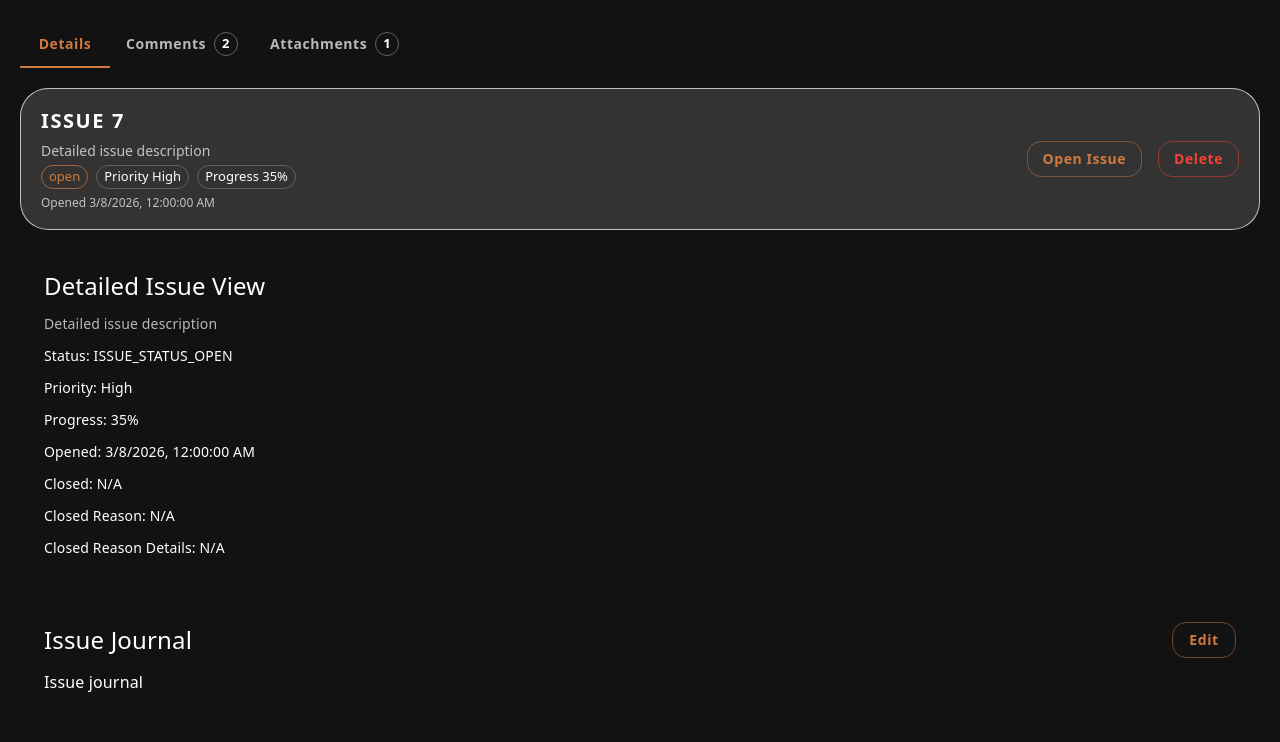
Test: ProjectManagerIssuePage › shows project and issue attachment embedding instructions in the issue journal editor
This screenshot has width=1280, height=742.
(page scrolled)
Check: the heading "Issue Journal" is shown, box [44,624,192,656]
Check: the text "Issue Journal" is shown, box [44,623,192,656]
Click the button "Edit".
click(1204, 640)  # box [1172,622,1236,658]
(page scrolled)
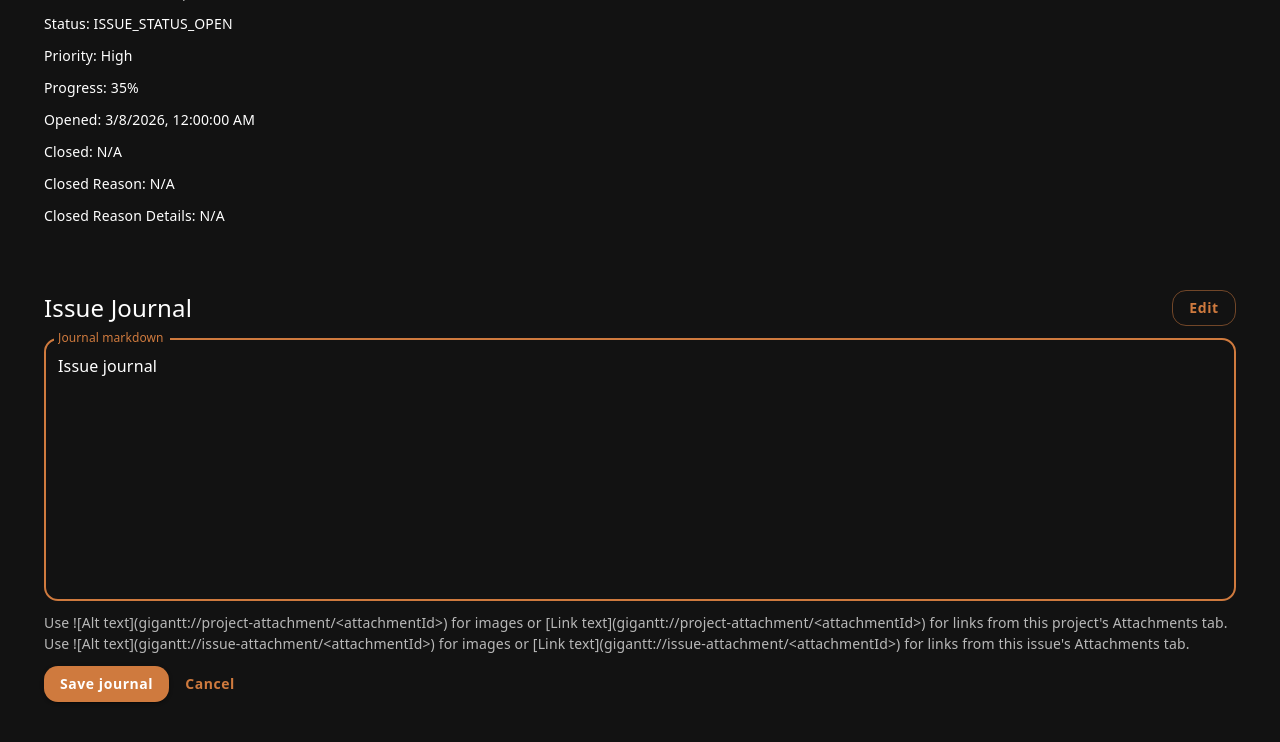
Check: the text "gigantt://issue-attachment/<attachmentId>" is shown, box [44,614,1228,652]
